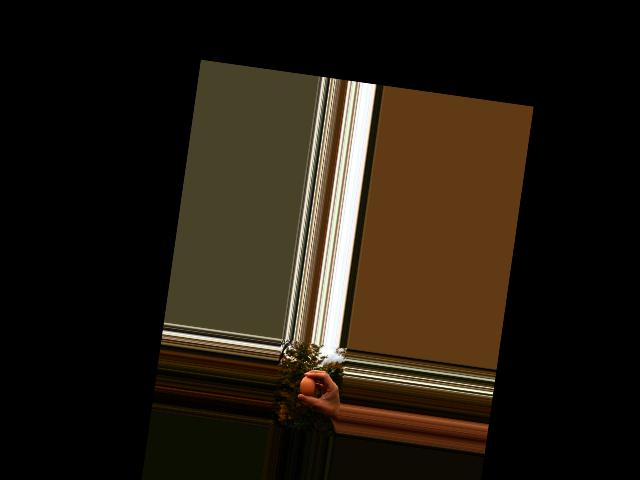egg: (298, 374, 316, 397)
